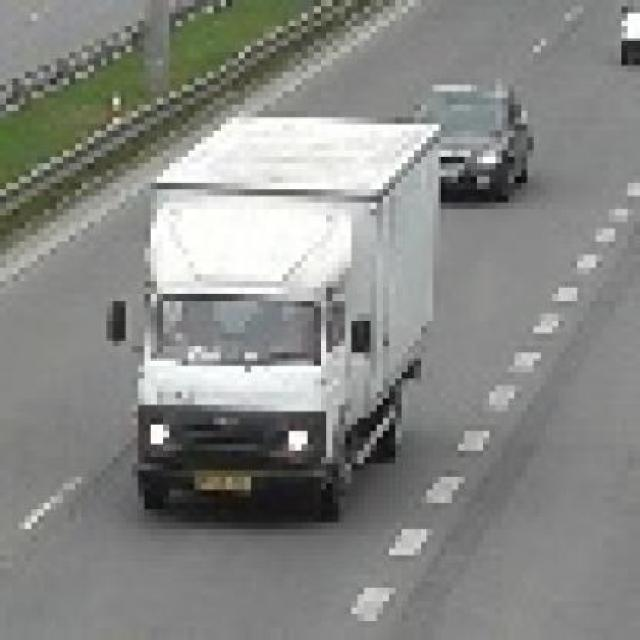truck: (102, 112, 434, 510)
